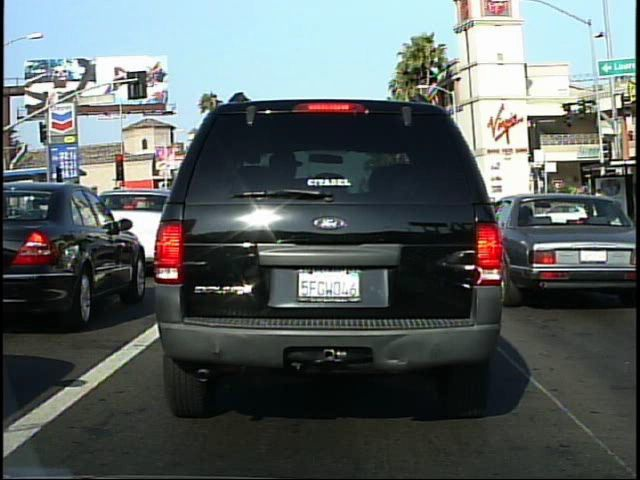person: (589, 184, 612, 252)
